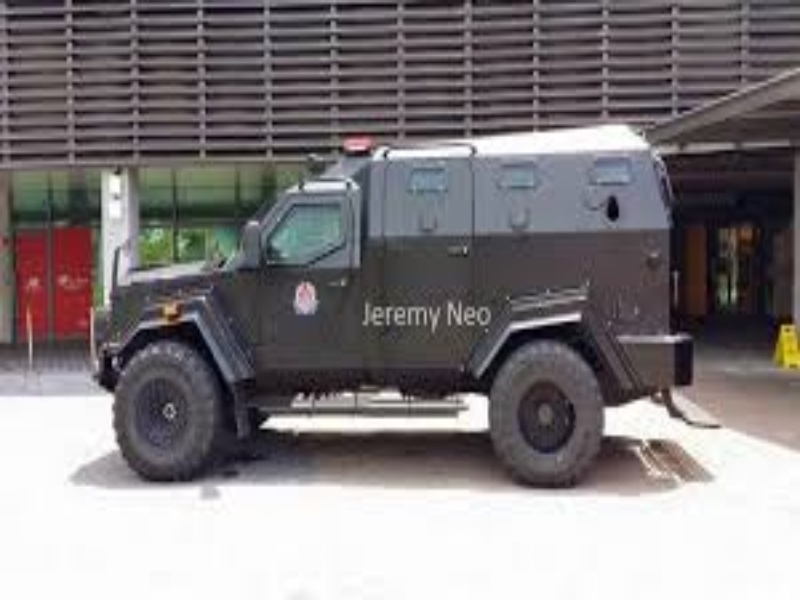jeep: (87, 123, 723, 490)
